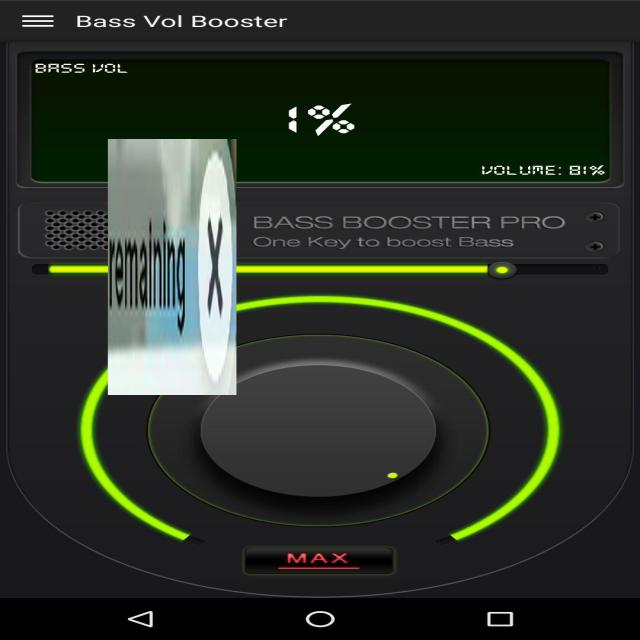misdirection: (108, 139, 236, 395)
